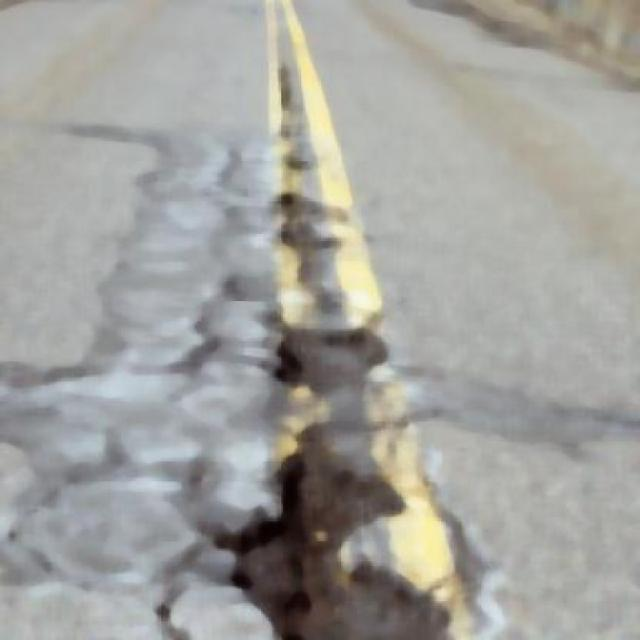Pothole: (274, 178, 369, 639)
